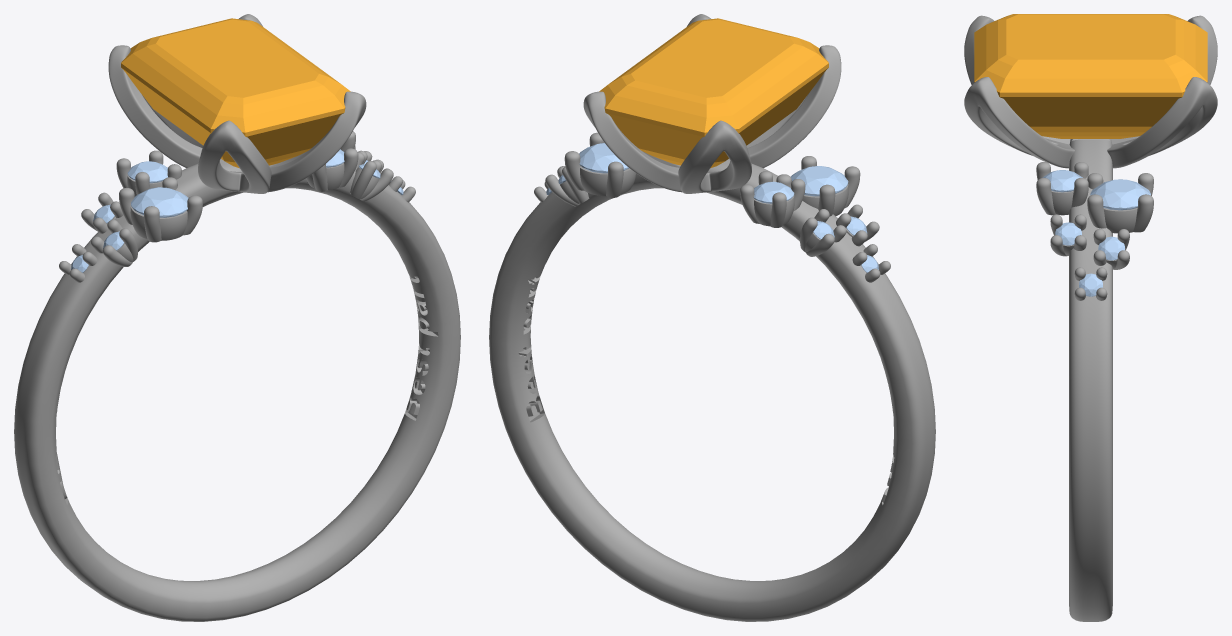
3 renders of one model, left to right at view 1: azimuth 30°, elevation 25°; view 2: azimuth 150°, elevation 25°; view 3: azimuth 270°, elevation 25°, orthographic.
Parts seen in each view (by area): view 1: AU-95516_v3_3ct.3dm, GG_Emerald, GG_Round, Bazel Gallery; view 2: AU-95516_v3_3ct.3dm, GG_Emerald, GG_Round (×2), Bazel Gallery; view 3: AU-95516_v3_3ct.3dm, GG_Emerald, GG_Round (×5), PRONG HEAD BUILDER (×4), Bazel Gallery (×2).
Boxes of the visible parts, <box> form: AU-95516_v3_3ct.3dm: <box>14,14,460,621</box>; GG_Emerald: <box>121,18,350,168</box>; GG_Round: <box>131,187,188,217</box>; Bazel Gallery: <box>130,206,187,240</box>; AU-95516_v3_3ct.3dm: <box>489,14,935,621</box>; GG_Emerald: <box>599,18,828,168</box>; GG_Round (×2): <box>579,143,848,196</box>; Bazel Gallery: <box>580,166,635,196</box>; AU-95516_v3_3ct.3dm: <box>964,15,1217,621</box>; GG_Emerald: <box>974,14,1207,138</box>; GG_Round (×5): <box>1042,170,1150,296</box>; PRONG HEAD BUILDER (×4): <box>1036,177,1153,232</box>; Bazel Gallery (×2): <box>1051,191,1137,233</box>.
Bounding box in the file's own units: 2.42 × 2.95 × 1.21.
